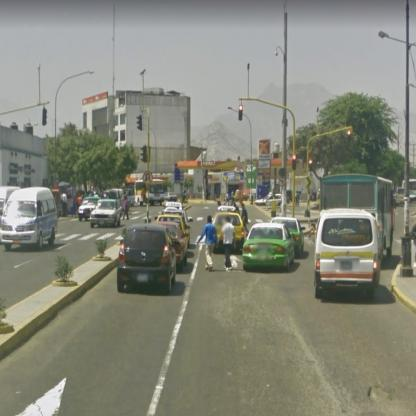Peaton: (198, 216, 219, 273), (217, 216, 237, 271)
Pista: (23, 203, 410, 345)
Vehiculo: (118, 224, 181, 296), (1, 188, 58, 252), (243, 224, 296, 272), (91, 201, 124, 229)
